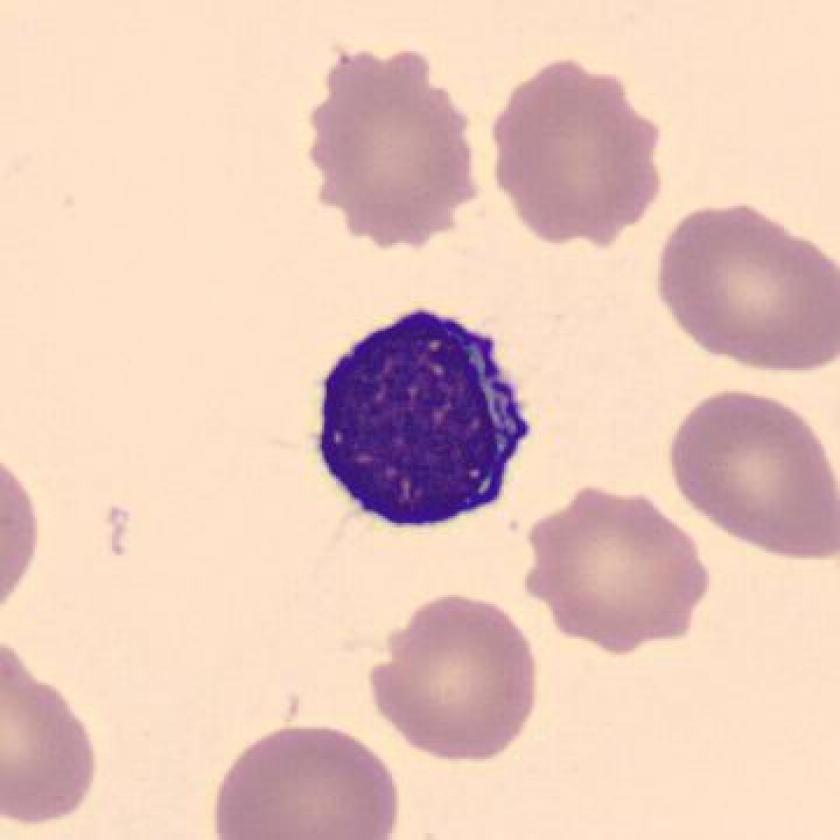lymphocyte: (302, 286, 547, 545)
